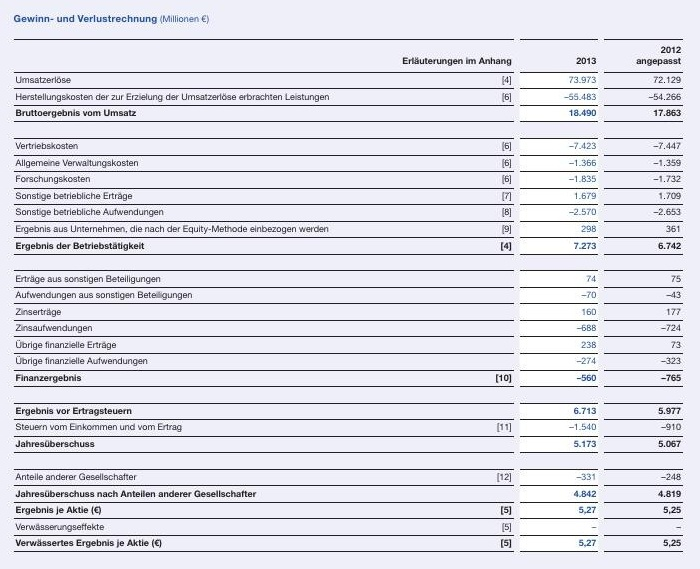table: (0, 0, 700, 569)
